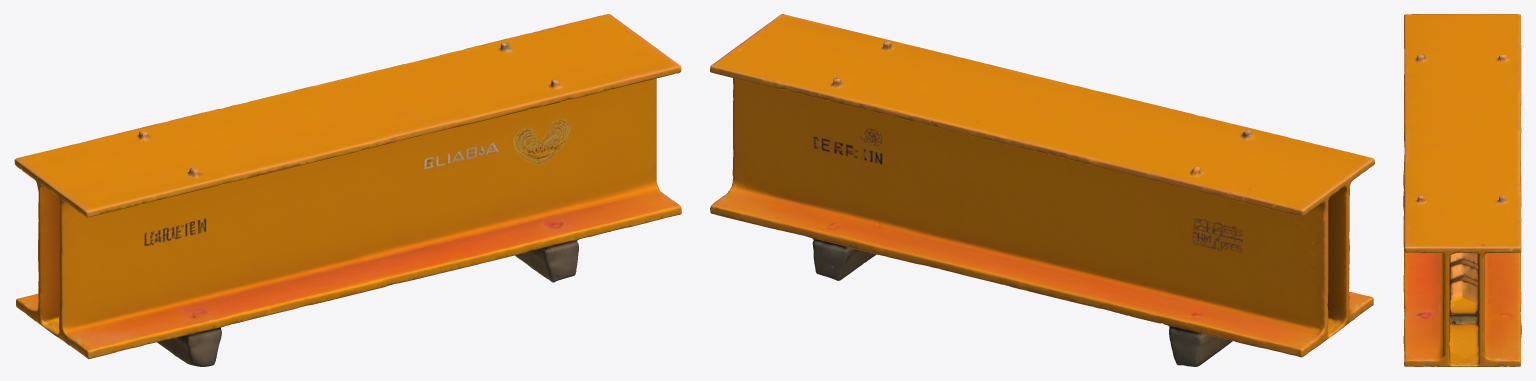
Rendered from cau-kien-3d.glb.
3 views of the same model, side by side, from view 1: azimuth 30°, elevation 25°; view 2: azimuth 150°, elevation 25°; view 3: azimuth 270°, elevation 25° (orthographic). The views are drawn at different scales.
Bounding box in the file's own units: 2 × 0.6208 × 0.4271.
Materials: 1 (1 with a texture image).
